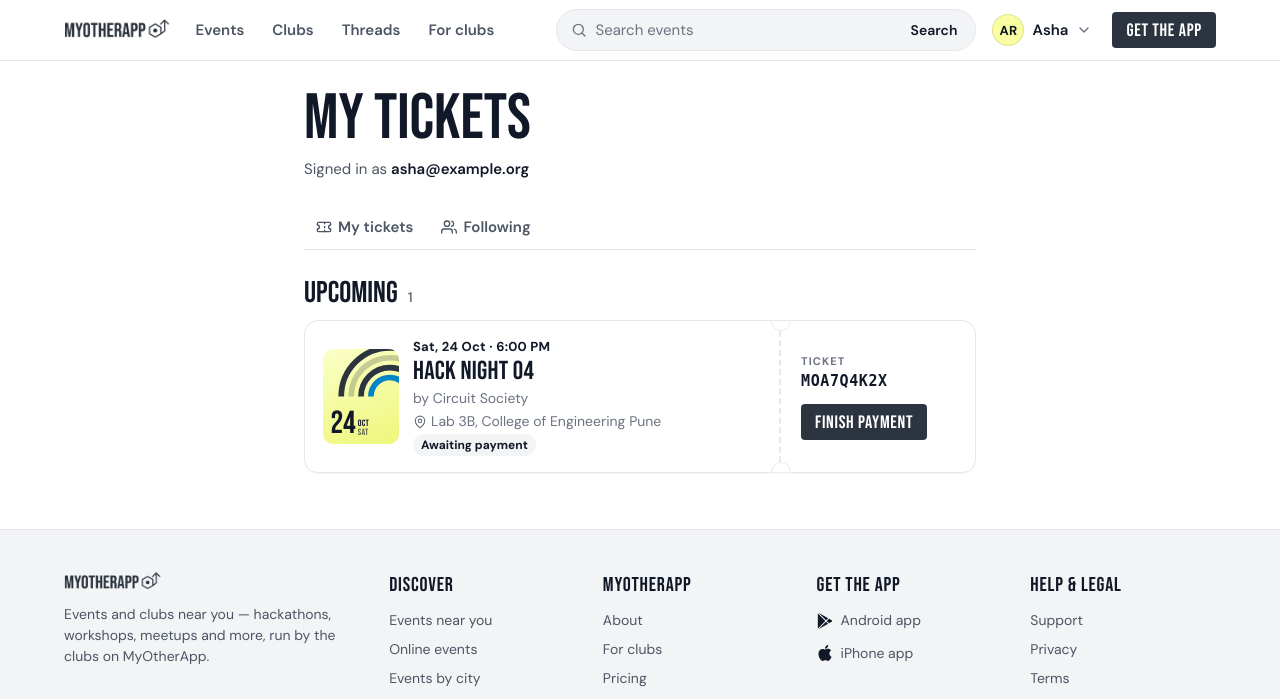
it: Finish payment, from My tickets › says EVENT_NOT_FOUND in words
Click the button with aria-label "Finish payment for Hack Night 04": x=864, y=422 x1=801 y1=404 x2=927 y2=440
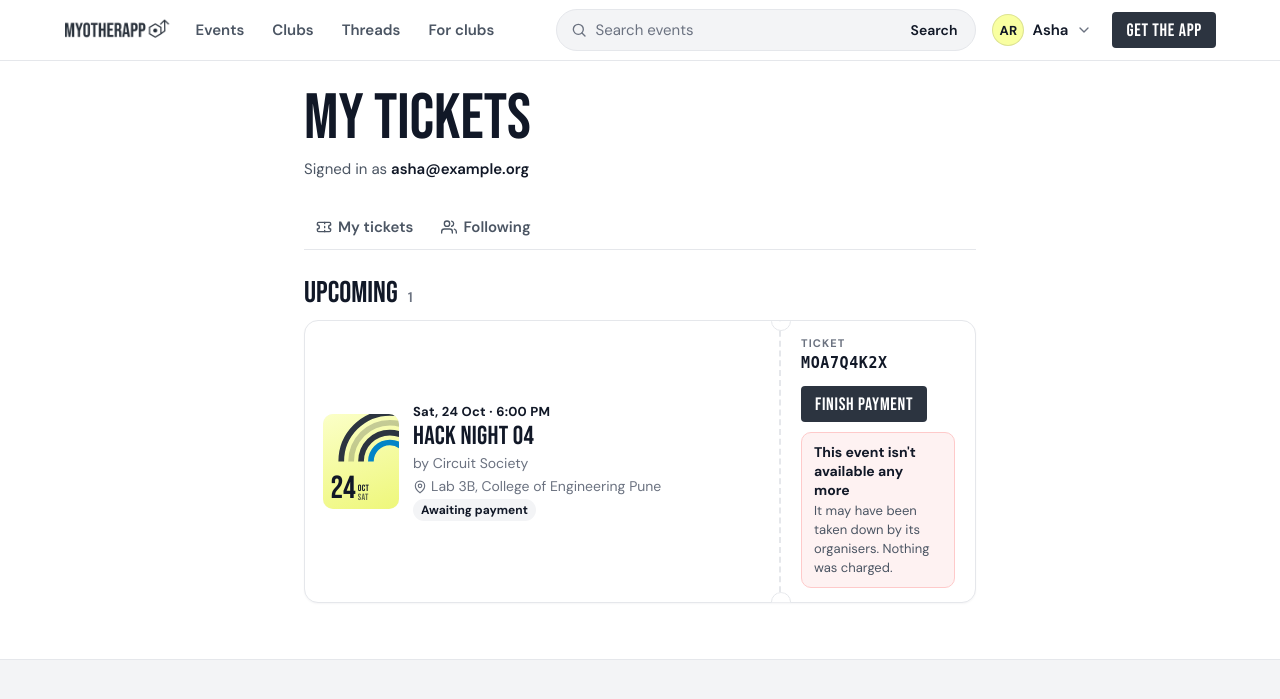
Result: the message shows "This event isn't available any more" at x1=814 y1=443 x2=916 y2=499
